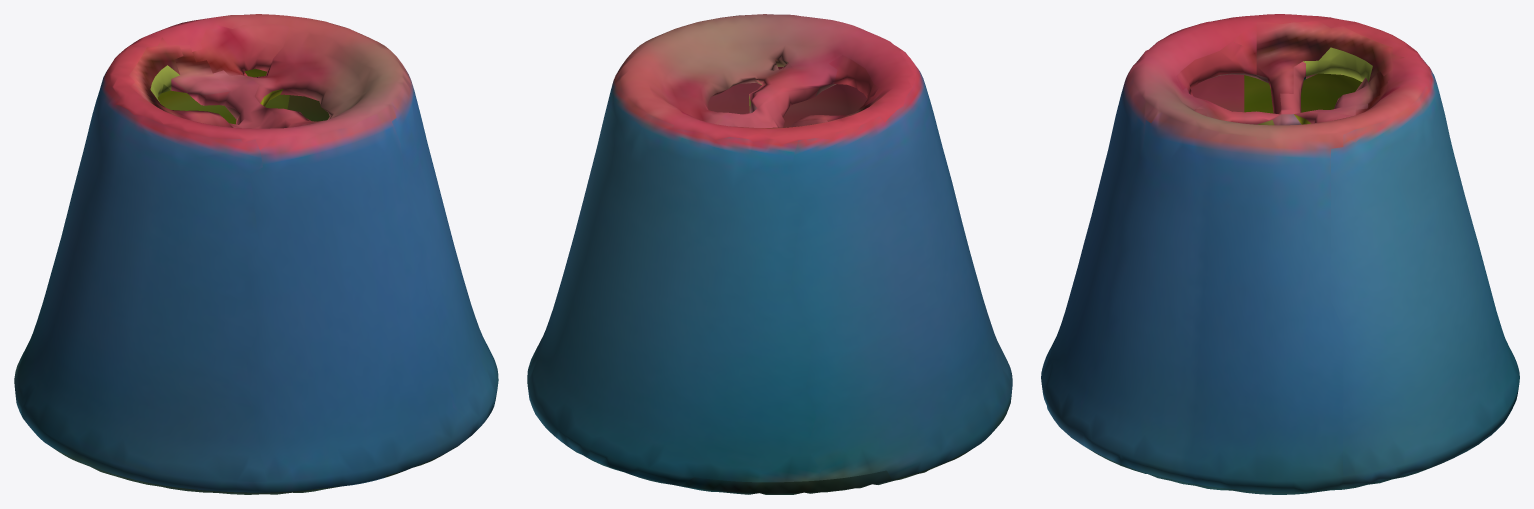
The model's file is bed-lamp.glb.
3 renders of one model, left to right at view 1: azimuth 30°, elevation 25°; view 2: azimuth 150°, elevation 25°; view 3: azimuth 270°, elevation 25°, orthographic.
Parts seen in each view (by area): view 1: textured; view 2: textured; view 3: textured.
Part boxes in pixels (x1,y1,x2,y2): textured: (14,14,498,494); textured: (527,14,1012,494); textured: (1041,14,1519,494).
Bounding box in the file's own units: 0.2079 × 0.1525 × 0.2036.
1 material, 1 textured.
